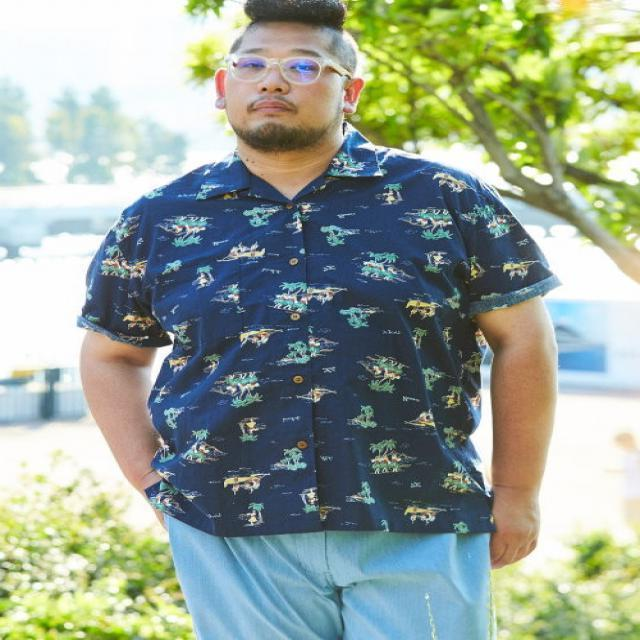direk: (69, 6, 559, 640)
